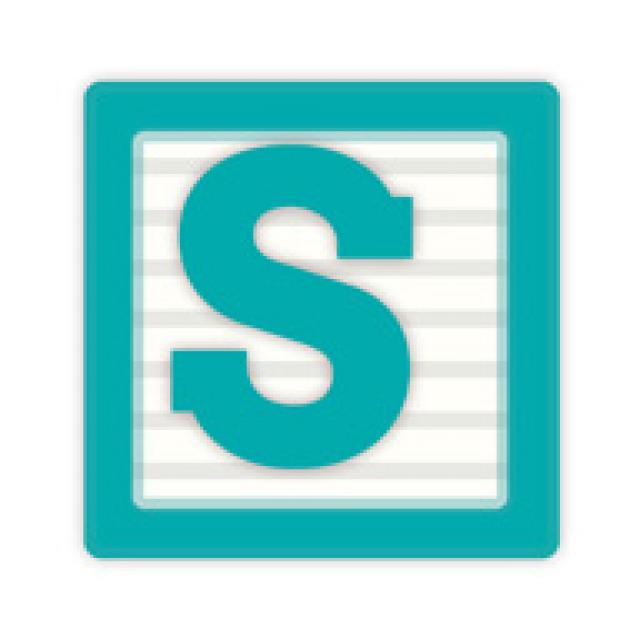S: (141, 132, 434, 487)
